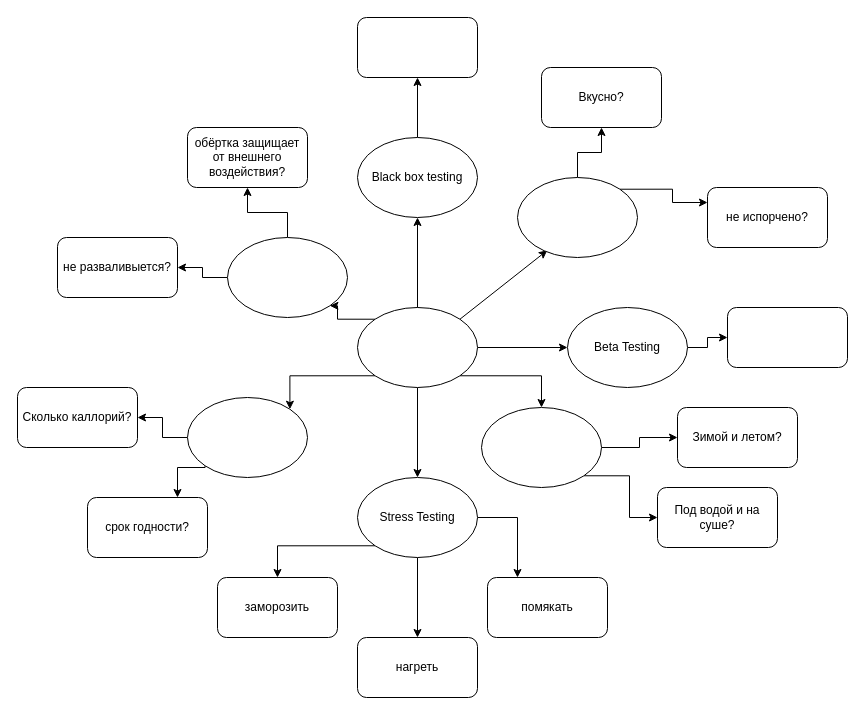
The diagram is 865 pixels wide and 715 high, and some of its shapes have lost their labels. The shapes that lost their labels are listed below. From the top down, each one's centre as x and y in pixels, then its label:
At pixel 417 47: "неизвестен состав".
At pixel 577 217: "Functional testing".
At pixel 287 277: "Integration Testing".
At pixel 417 347: "конфета".
At pixel 787 337: "Дать друзьям пусть попробуют".
At pixel 247 437: "Perfomance Testing".
At pixel 541 447: "Validation".
